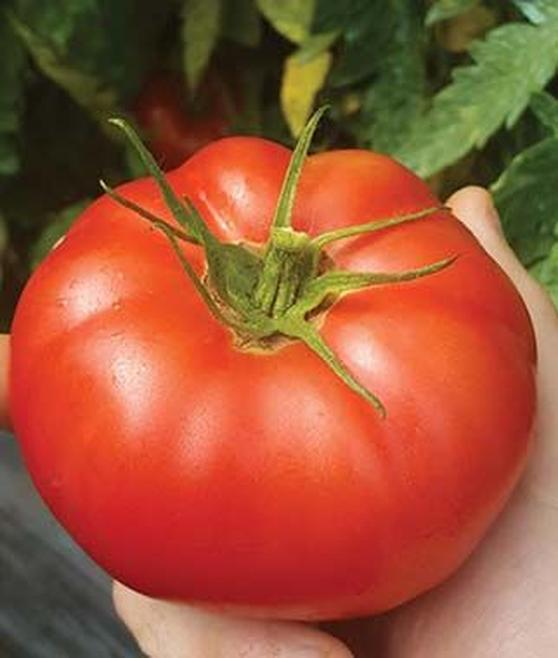tomato: (5, 131, 548, 619)
